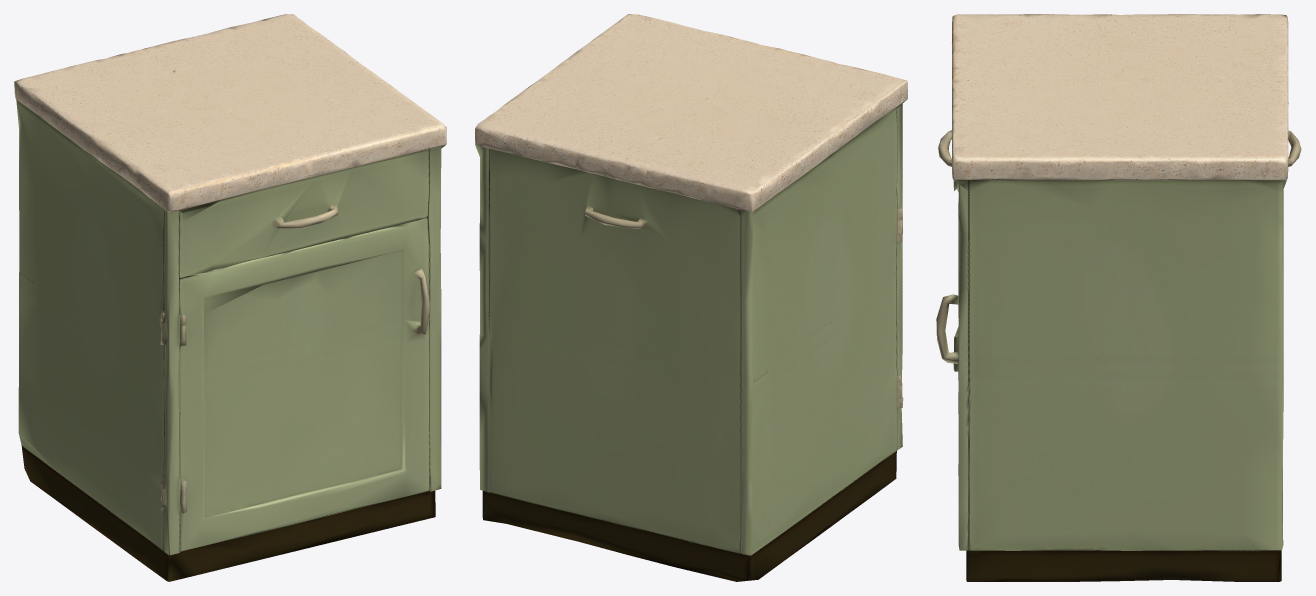
File: tripo_convert_939064ea-8716-4bf7-bef0-d30683616eeb.fbx
3 renders of one model, left to right at view 1: azimuth 30°, elevation 25°; view 2: azimuth 150°, elevation 25°; view 3: azimuth 270°, elevation 25°, orthographic. The views are drawn at different scales.
Visible parts, largest first — view 1: tripo_node_939064ea; view 2: tripo_node_939064ea; view 3: tripo_node_939064ea.
Boxes of the visible parts, x1,y1,x2,y2 form: tripo_node_939064ea: [14, 14, 446, 581]; tripo_node_939064ea: [475, 14, 907, 581]; tripo_node_939064ea: [936, 14, 1301, 581].
Size of the model in its own units: 0.7245 by 0.9786 by 0.7607.
